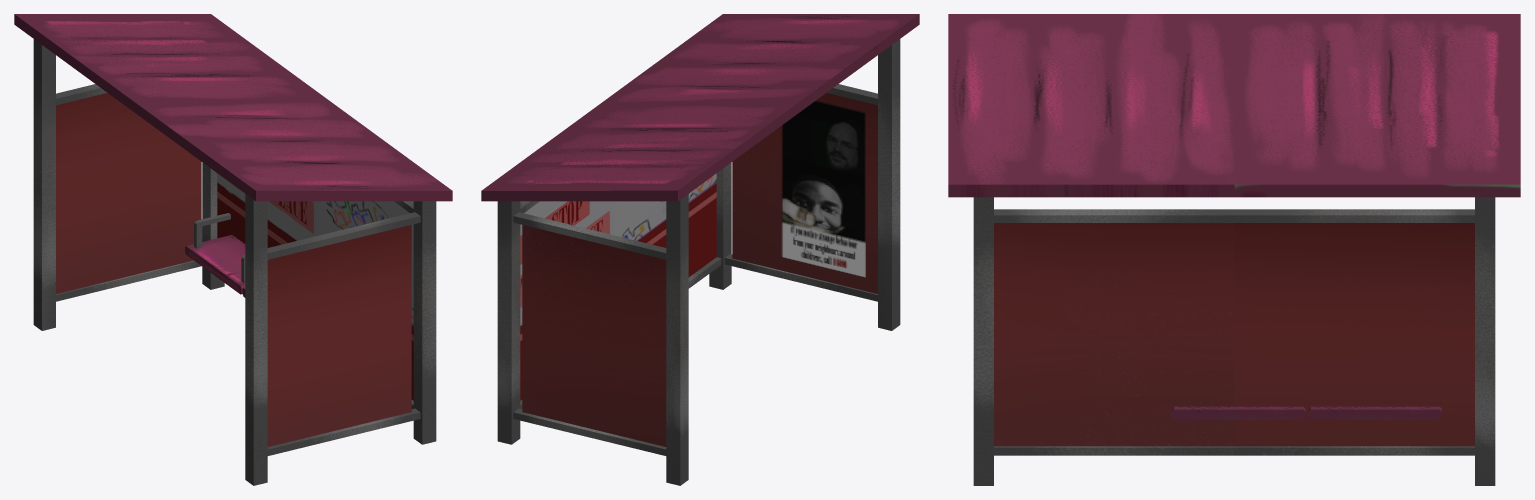
Rendered from bus_stop.fbx.
3 renders of one model, left to right at view 1: azimuth 30°, elevation 25°; view 2: azimuth 150°, elevation 25°; view 3: azimuth 270°, elevation 25°, orthographic. The views are drawn at different scales.
Parts seen in each view (by area): view 1: group7_group5_BusspCube2; view 2: group7_group5_BusspCube2; view 3: group7_group5_BusspCube2.
Boxes of the visible parts, bbox=[...] form: group7_group5_BusspCube2: bbox=[14, 14, 452, 485]; group7_group5_BusspCube2: bbox=[481, 14, 919, 485]; group7_group5_BusspCube2: bbox=[948, 14, 1520, 485].
Bounding box in the file's own units: 530 × 786 × 1127.
1 material, 1 textured.
